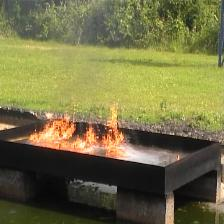fire: (71, 102, 127, 157), (29, 99, 75, 143)
